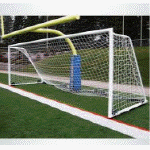goals: (4, 27, 150, 118)
